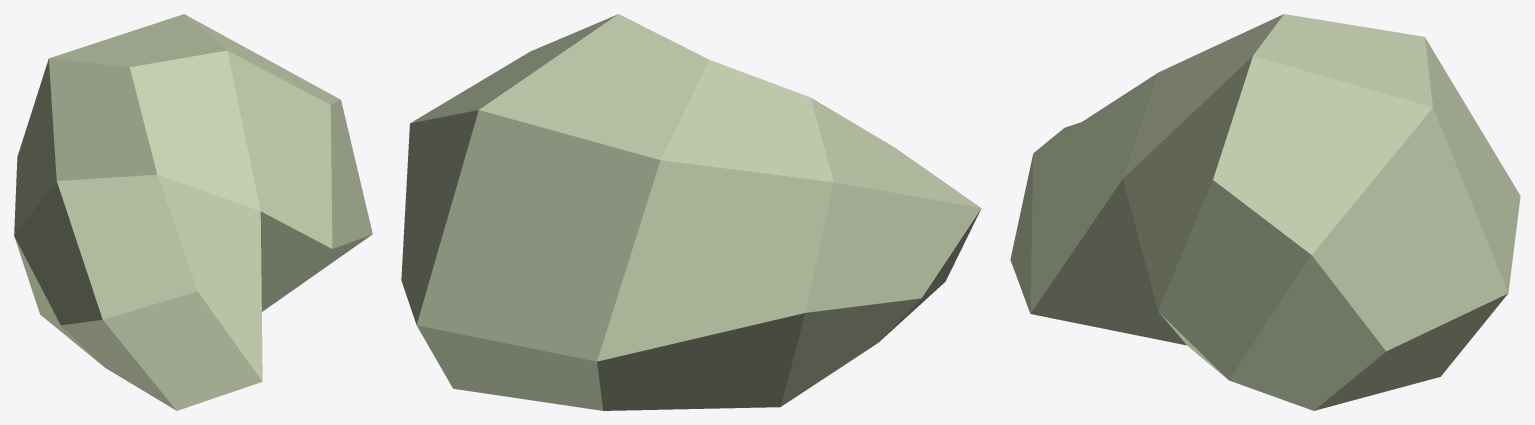
Rendered from Rocks_05.glb.
3 renders of one model, left to right at view 1: azimuth 30°, elevation 25°; view 2: azimuth 150°, elevation 25°; view 3: azimuth 270°, elevation 25°, orthographic. The views are drawn at different scales.
Visible parts, largest first — view 1: Rocks_05; view 2: Rocks_05; view 3: Rocks_05.
Part boxes in pixels (x1=…): Rocks_05: x1=14, y1=14, x2=372, y2=410; Rocks_05: x1=401, y1=14, x2=981, y2=410; Rocks_05: x1=1010, y1=14, x2=1520, y2=410.
Size of the model in its own units: 1.71 by 1.18 by 1.87.
1 material, 1 textured.
